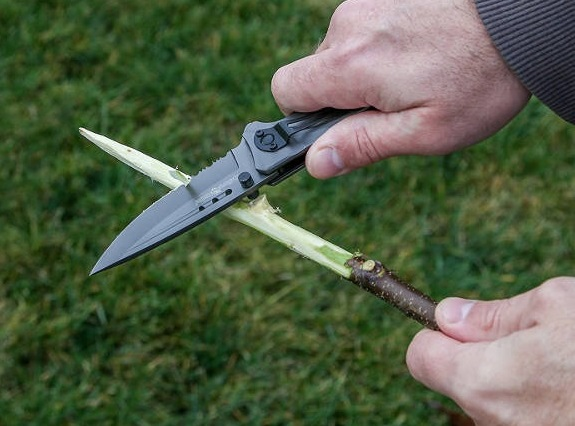knife: (75, 42, 394, 289)
